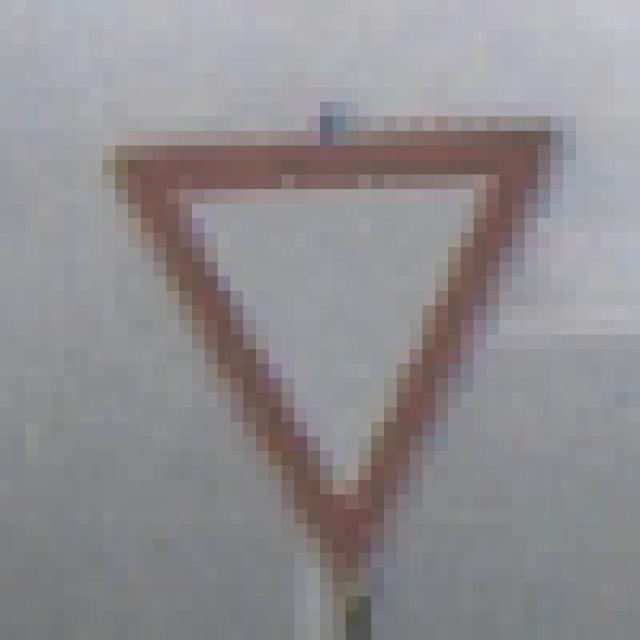Give Way: (78, 89, 577, 569)
